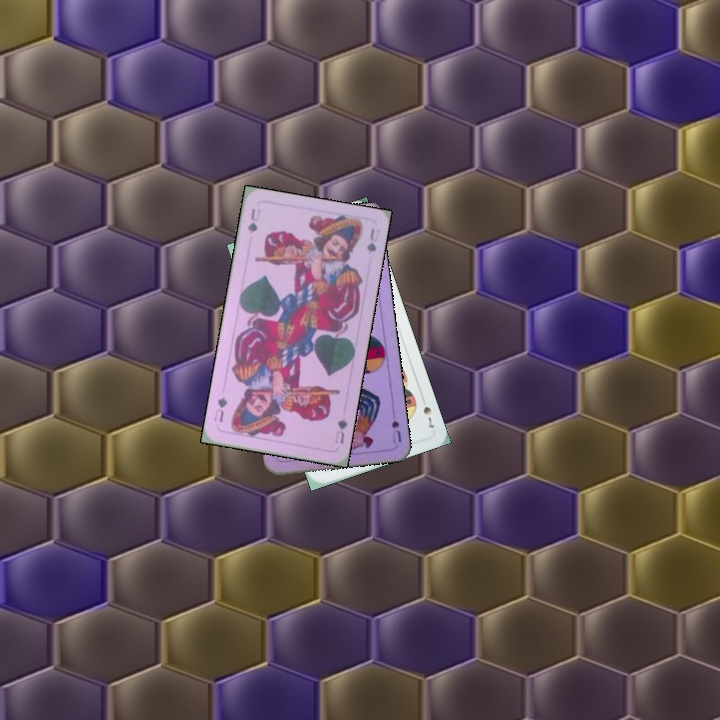GU: (331, 414, 350, 446), (244, 205, 263, 236)
S7: (419, 402, 437, 431)
SU: (387, 404, 404, 445)
